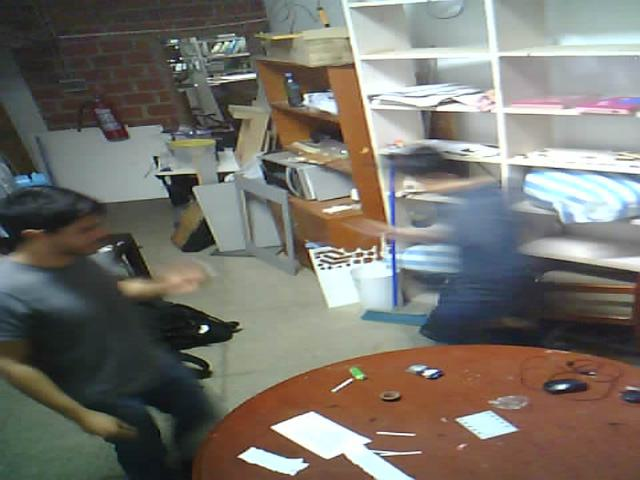person: (3, 159, 232, 479), (366, 118, 553, 385)
